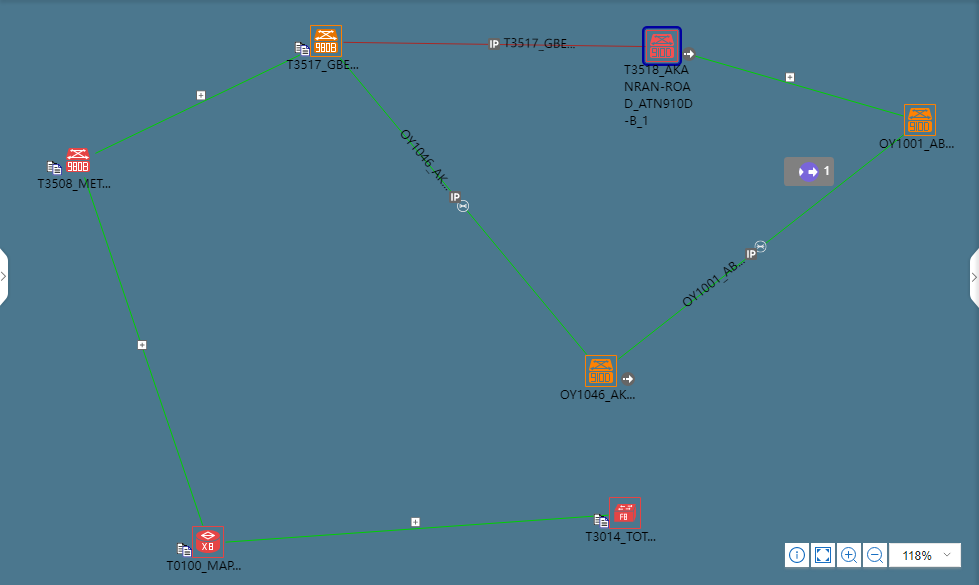ATN_Orange: (584, 357, 620, 392), (909, 106, 938, 135), (315, 26, 338, 54)
ATN_Red: (646, 32, 675, 62), (64, 149, 93, 178)
Link_Green: (340, 57, 586, 354), (621, 136, 898, 355), (83, 182, 210, 527), (95, 51, 300, 159), (682, 51, 907, 123), (223, 516, 558, 542)
Link_Red: (346, 39, 644, 49)
Router_Red: (609, 497, 644, 527), (193, 528, 222, 556)
